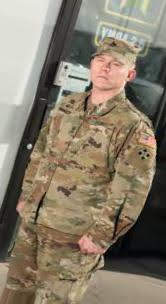uniform: (8, 76, 151, 296)
